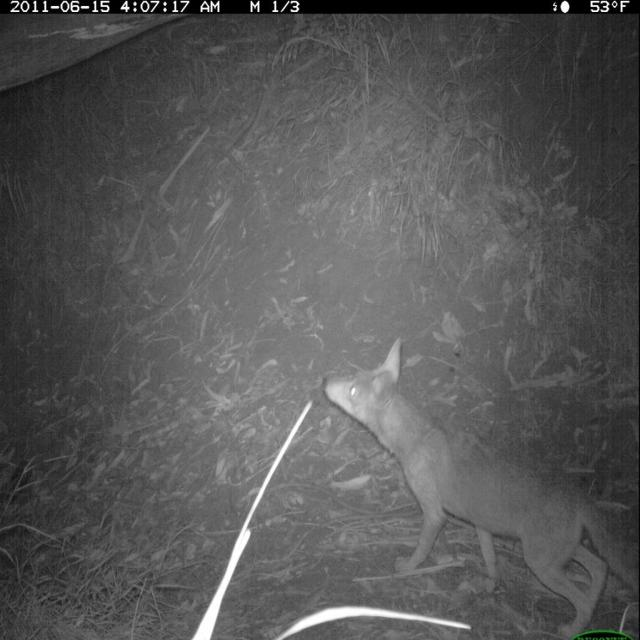coyote: (314, 340, 640, 640)
